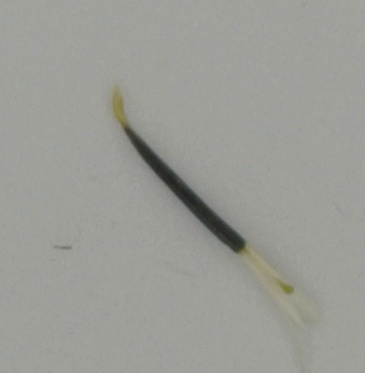เมล็ดดีเรียวยาว: (97, 84, 322, 326)
